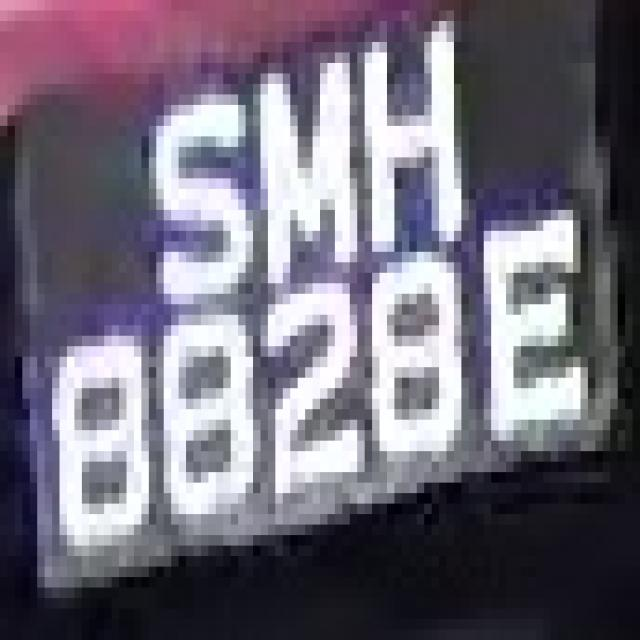2: (246, 262, 357, 514)
8: (45, 294, 171, 566), (350, 241, 476, 483), (149, 314, 275, 546)
E: (469, 178, 588, 452)
H: (349, 10, 484, 273)
M: (231, 31, 372, 262)
S: (134, 53, 253, 304)
